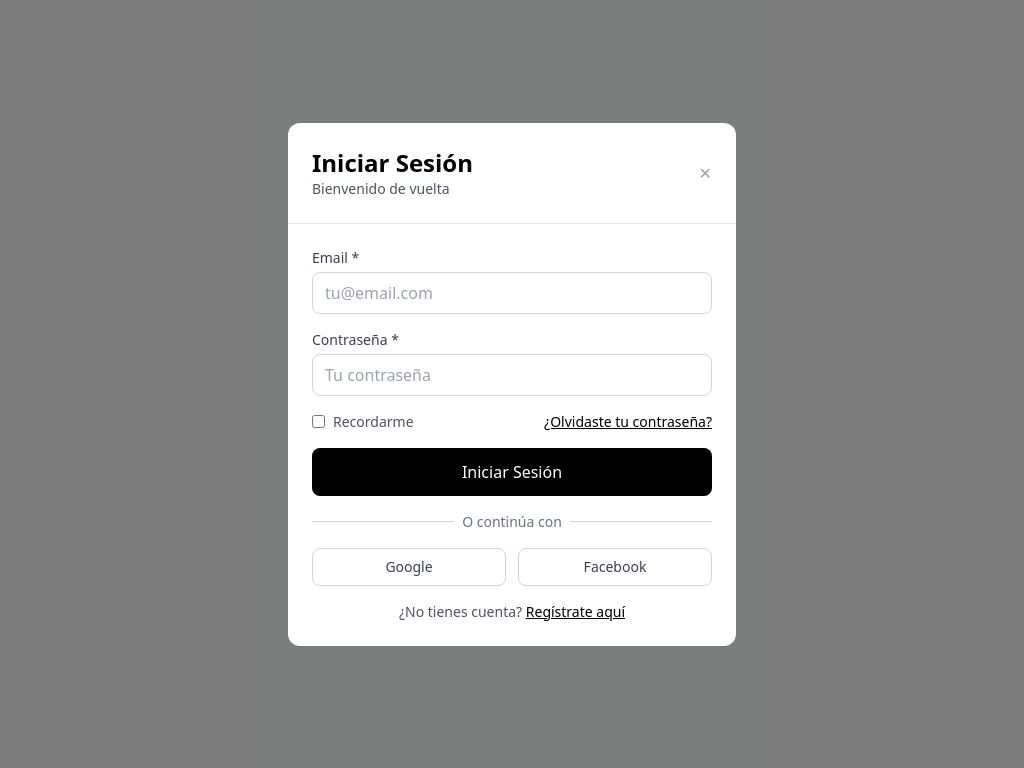
LoginForm Component › shows email validation error for empty email
This screenshot has width=1024, height=768.
Click the button "Iniciar Sesión": click(512, 472) [312,448,712,496]
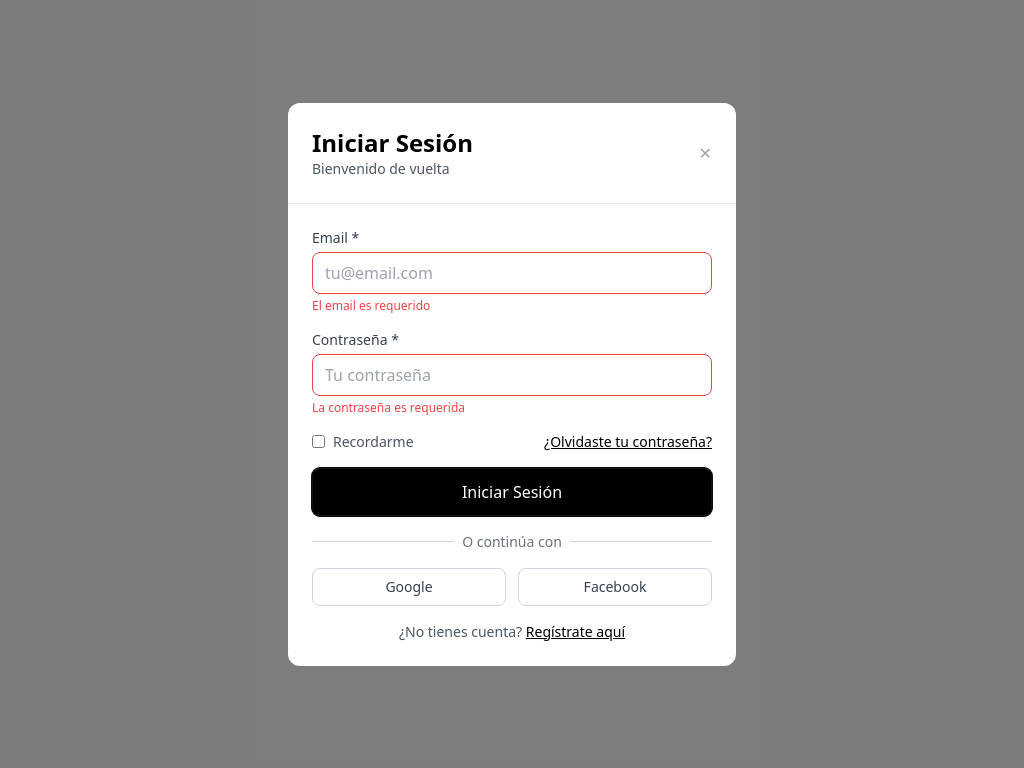
Expected: the text "El email es requerido" is shown, [312,296,430,314]
